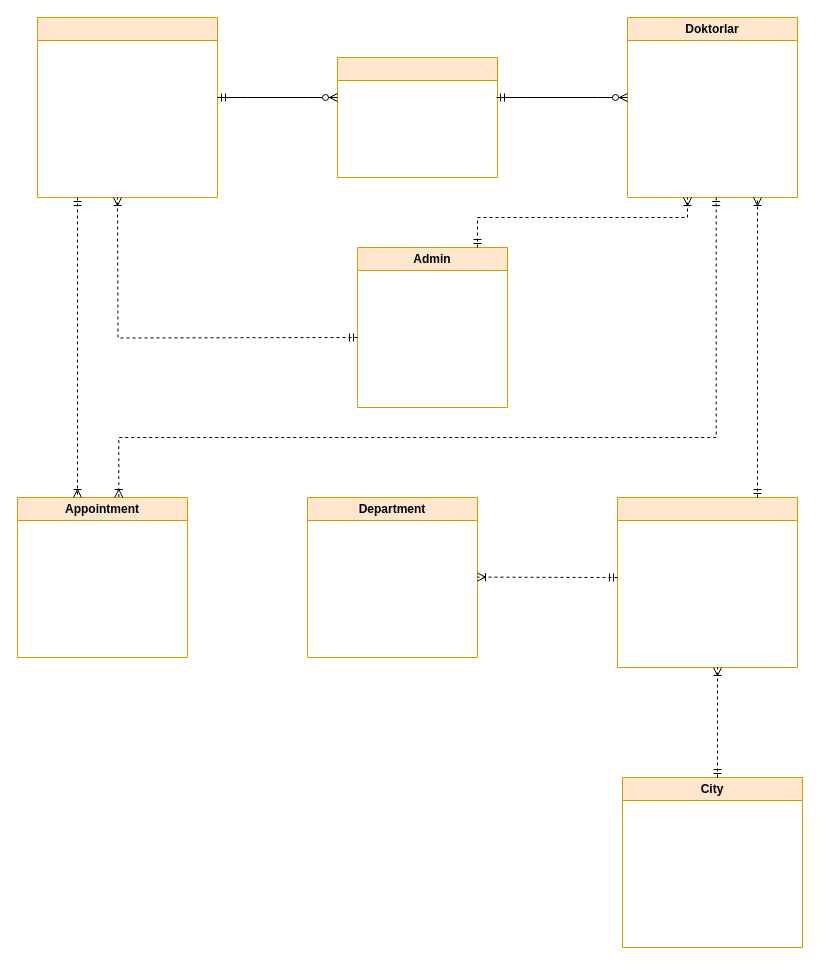
Some shapes in this 820 by 965 pixel diagram are drawn without their labels. The centre of each missing label's shape, as x and y in pixels:
"Hasta_Doktor" belongs at (417,117).
"Hastalar" belongs at (127,107).
"Hastane" belongs at (707,582).
